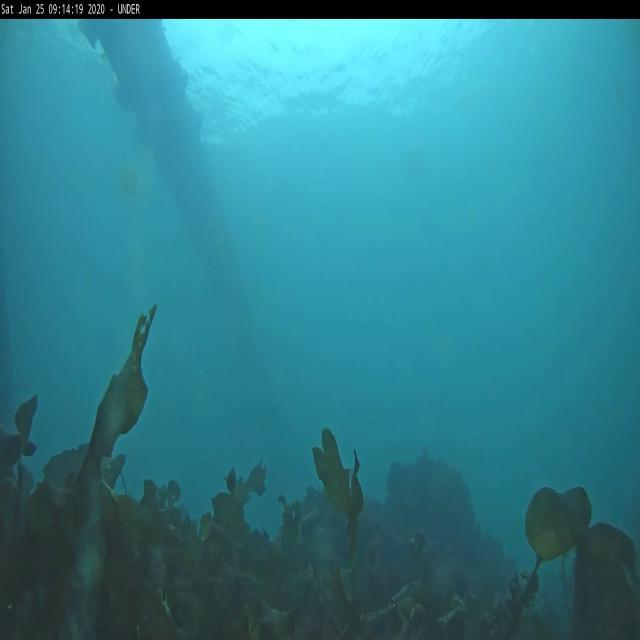fish: (224, 463, 234, 495)
